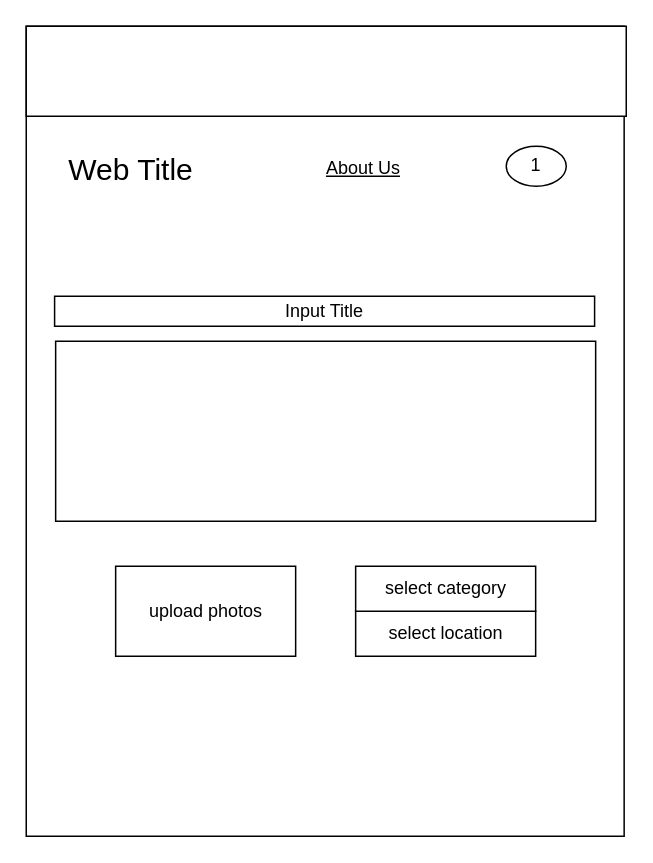
Image size: 653x863. Some labels were removed from this diagram. The centre of each missing label's shape, as x and y in pixels:
"Input description" goes at (x=325, y=430).
"Purple NYU Header" goes at (x=325, y=70).
